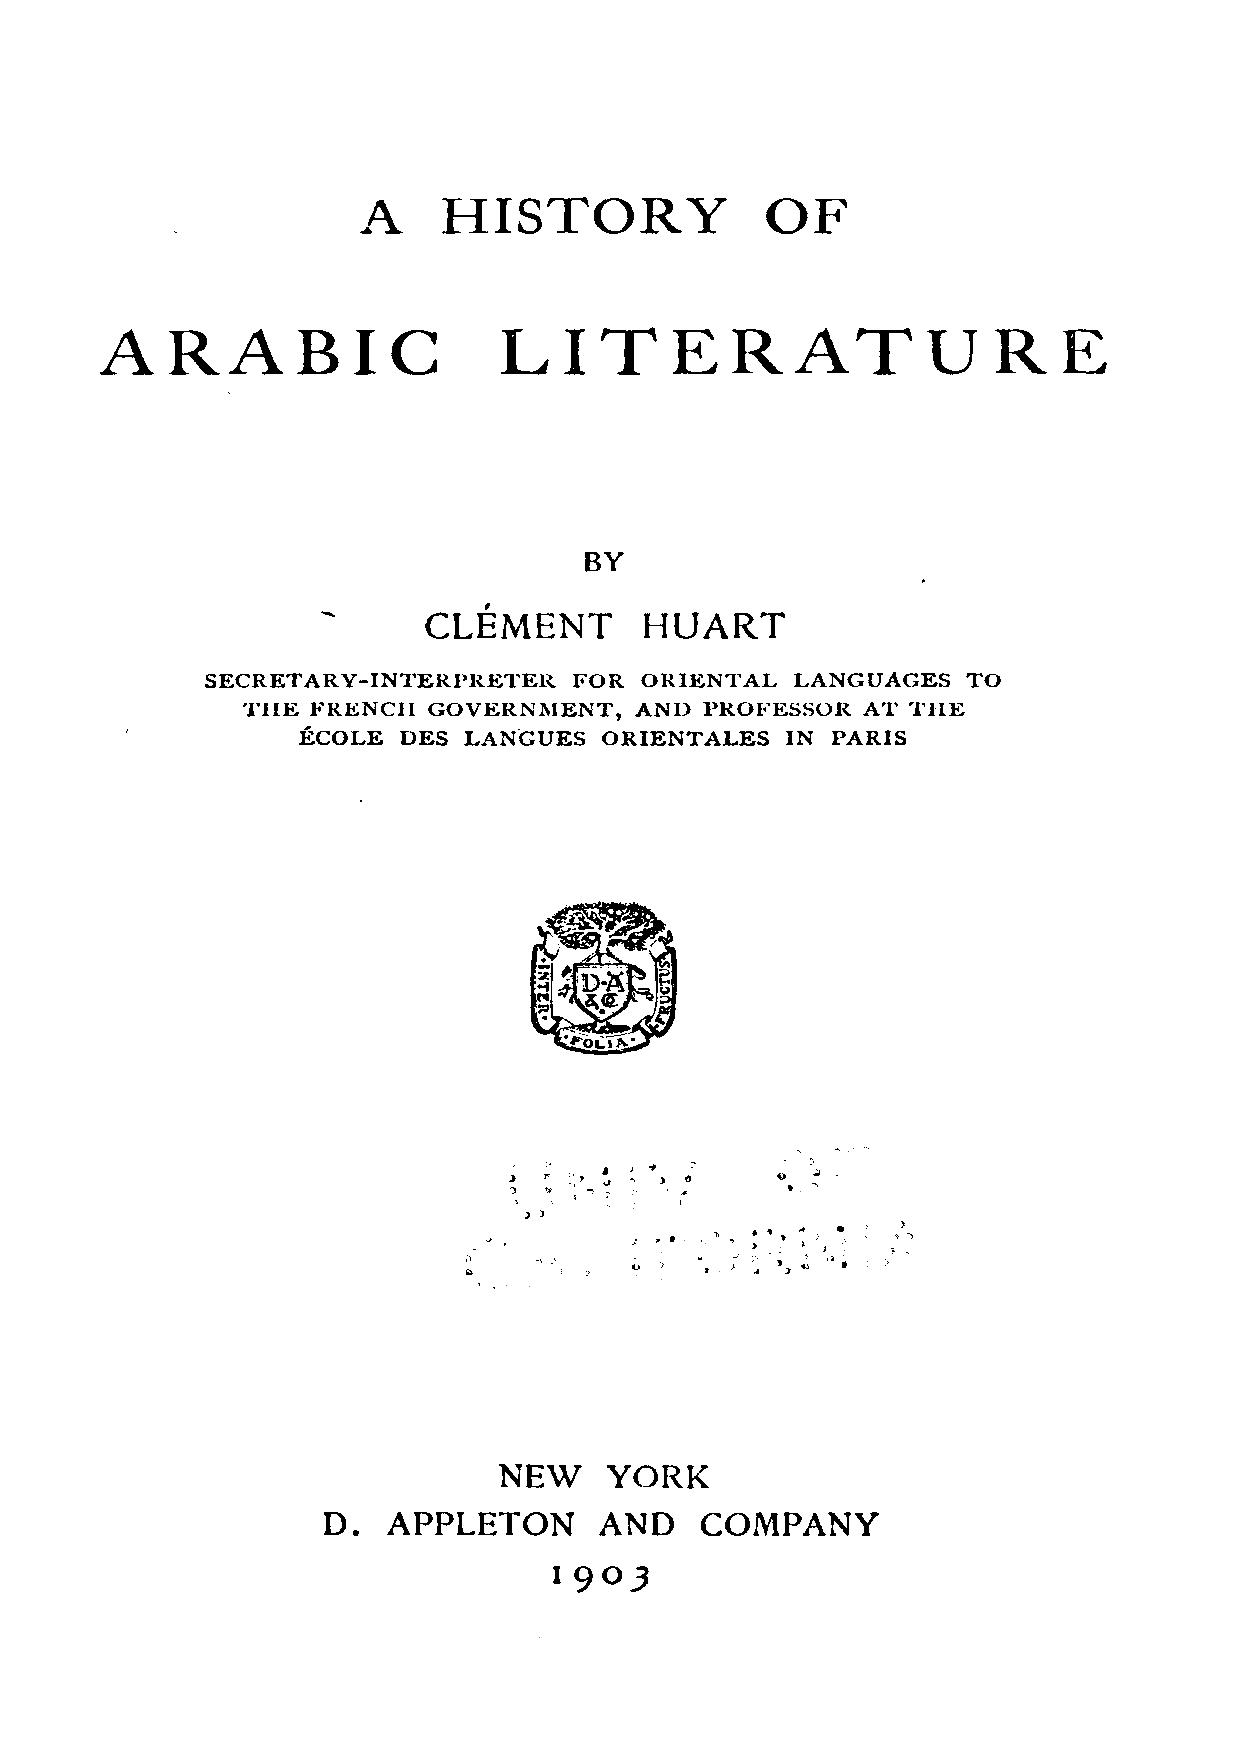author: (421, 548, 784, 646)
title: (94, 193, 1104, 382)
